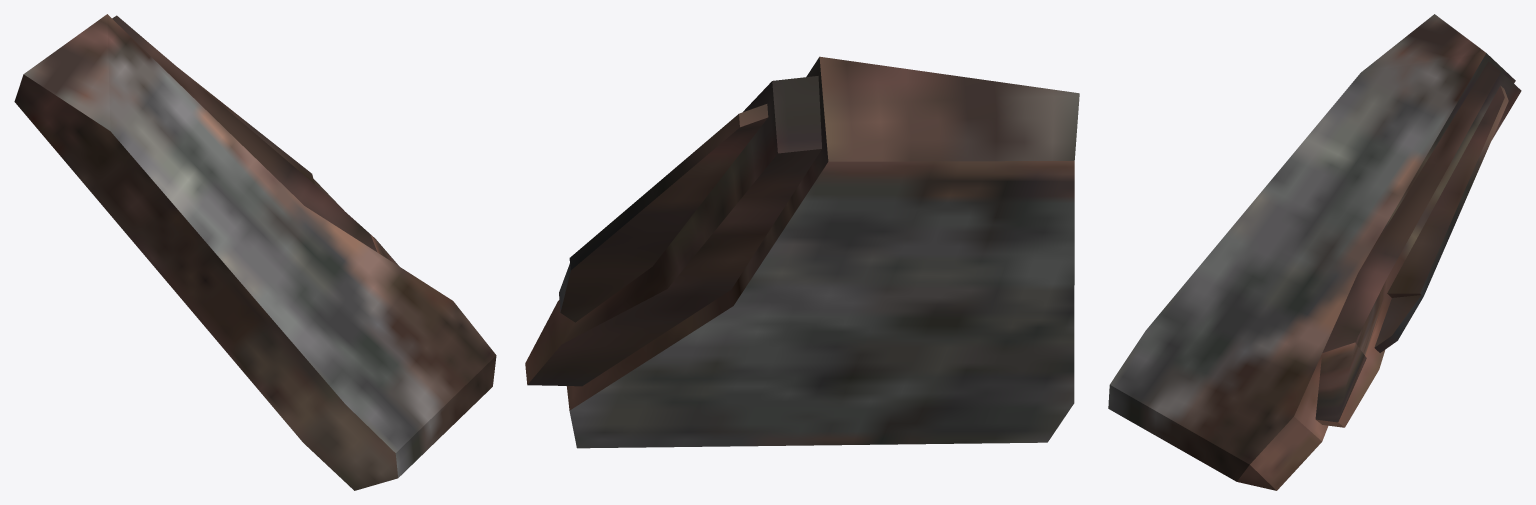
Rendered from debris_tradefed_hulk_radial_s02_l2.fbx.
3 views of the same model, side by side, from view 1: azimuth 30°, elevation 25°; view 2: azimuth 150°, elevation 25°; view 3: azimuth 270°, elevation 25° (orthographic). The views are drawn at different scales.
Parts seen in each view (by area): view 1: mesh_node; view 2: mesh_node; view 3: mesh_node.
Part boxes in pixels (left/top/right/bottom): mesh_node: left=14, top=14, right=496, bottom=490; mesh_node: left=525, top=56, right=1079, bottom=448; mesh_node: left=1108, top=14, right=1521, bottom=490.
Bounding box in the file's own units: 1.27 × 1.15 × 1.29.
Materials: 1 (1 with a texture image).
